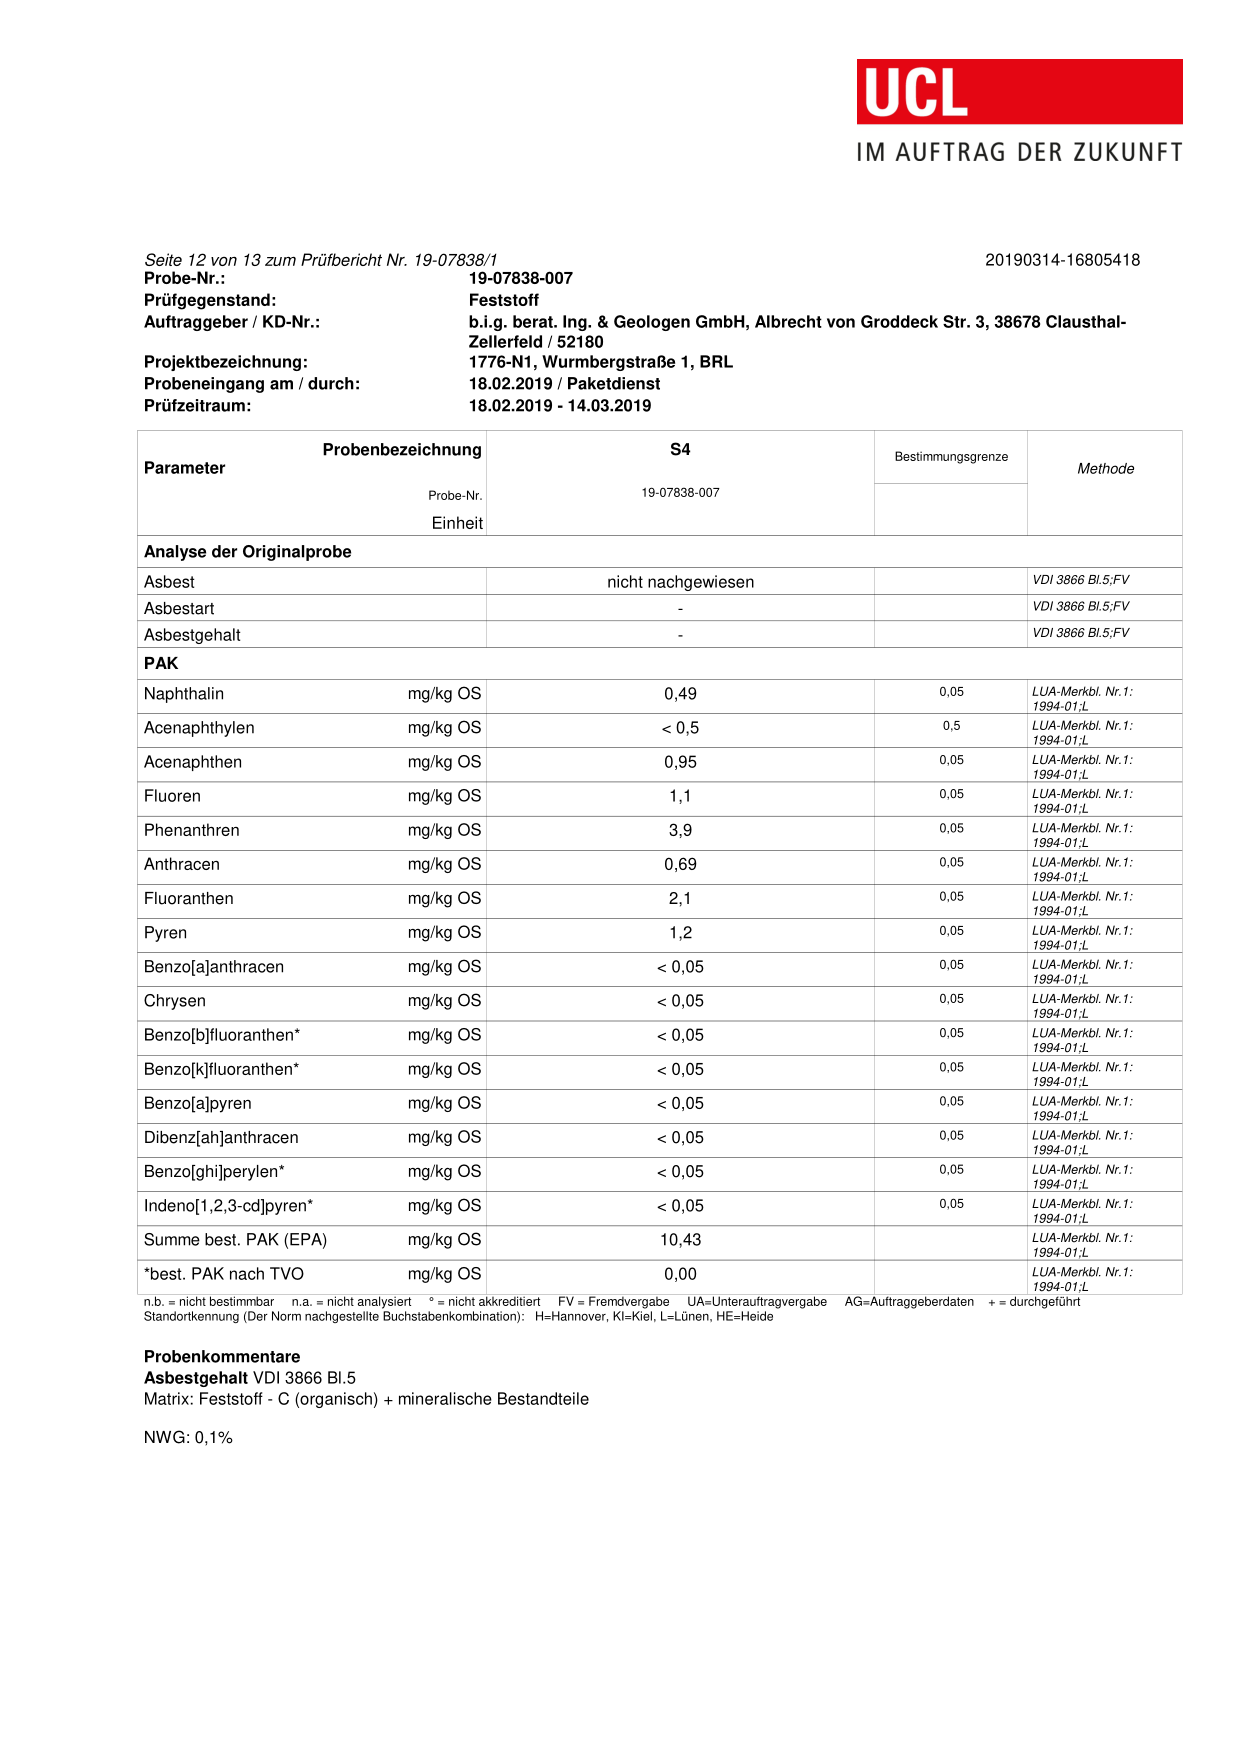table: (125, 562, 1192, 1301)
